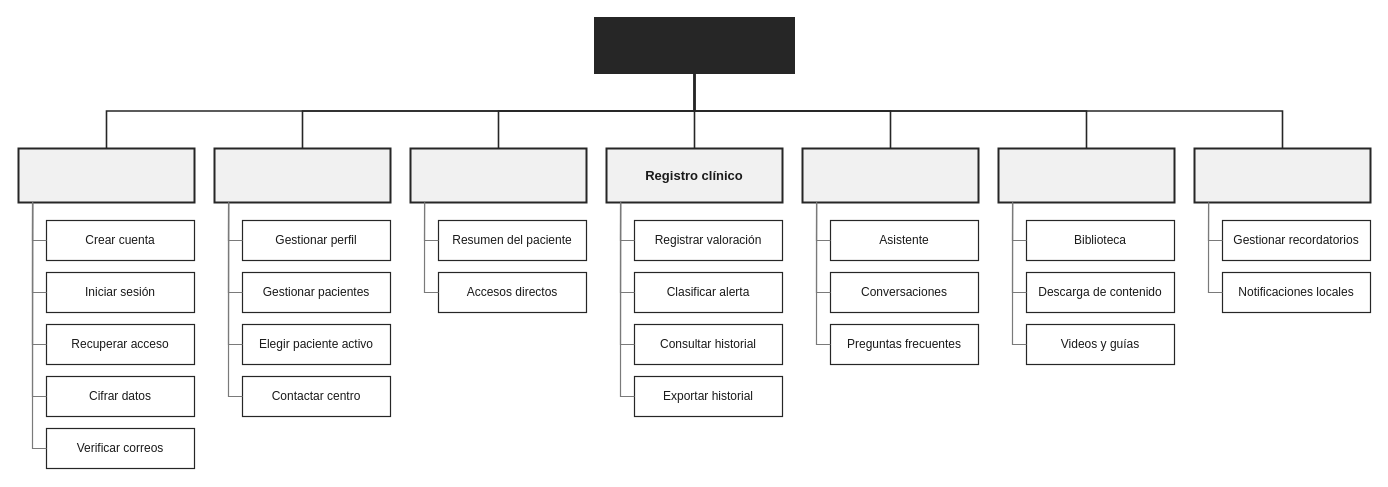
The diagram is 1388 pixels wide and 487 high, and some of its shapes have lost their labels. The centre of each missing label's shape, as x and y in pixels:
"Acceso y seguridad" belongs at point (106, 175).
"Educación" belongs at point (1086, 175).
"OnCuidar" belongs at point (694, 45).
"Orientación" belongs at point (890, 175).
"Panel principal" belongs at point (498, 175).
"Perfil y pacientes" belongs at point (302, 175).
"Recordatorios" belongs at point (1282, 175).
